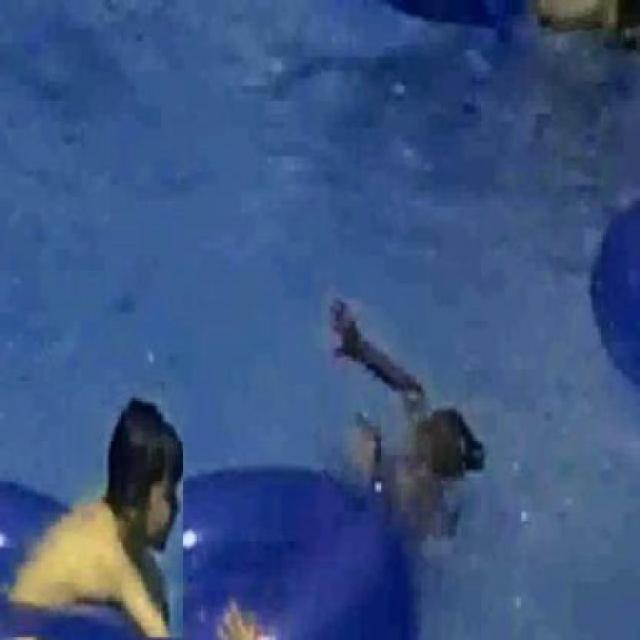drowning: (327, 320, 528, 525), (18, 388, 167, 608)
